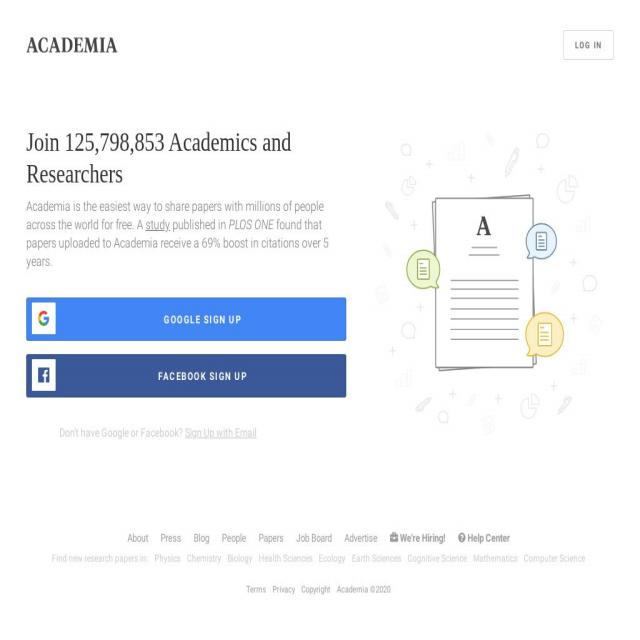login-option: (558, 30, 622, 67)
navigation-links: (36, 520, 532, 605)
sign-up-option: (14, 272, 360, 423)
